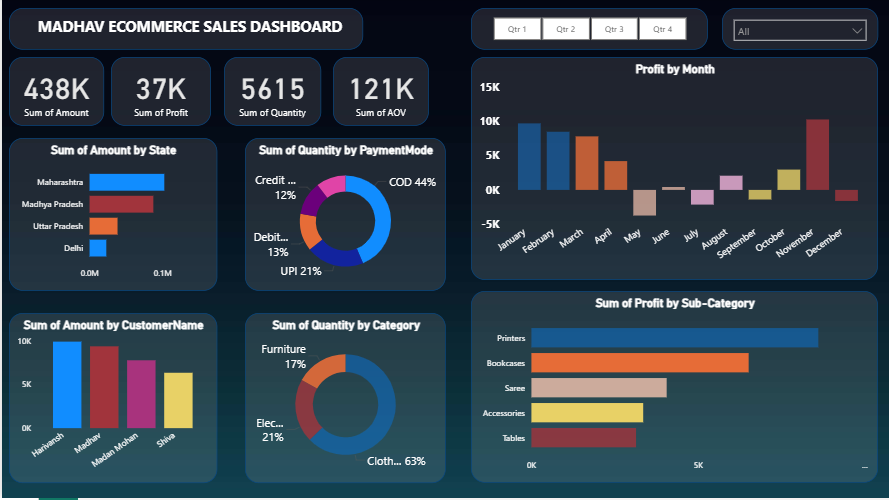

Layout of this report page (visuals, bound fields, positions):
{"tool":"powerbi","page":{"name":"Page 1","canvas":[1280,720],"ordinal":0},"visuals":[{"type":"textbox","box":[10.1,14.4,509.8,60.5],"z":0},{"type":"columnChart","title":"Profit by Month","fields":{"Y":["Details.Profit"],"Category":["Orders.Order Date.Variation.Date Hierarchy.Month"]},"box":[675.3,85.7,586.2,320.8],"z":1000},{"type":"clusteredBarChart","fields":{"Category":["Details.Sub-Category"],"Y":["Details.Profit"]},"box":[675.4,421.9,586.1,276.5],"z":2000},{"type":"donutChart","fields":{"Category":["Details.Category"],"Y":["Details.Quantity"]},"box":[349.9,453.6,289.4,244.8],"z":3000},{"type":"donutChart","fields":{"Category":["Details.PaymentMode"],"Y":["Details.Quantity"]},"box":[349.9,201.6,289.4,220.3],"z":4000},{"type":"card","fields":{"Values":["Details.Amount"]},"box":[10.1,85,136.8,99.4],"z":5000},{"type":"card","fields":{"Values":["Details.Quantity"]},"box":[319.7,85,139.7,99.4],"z":6000},{"type":"card","fields":{"Values":["Details.Profit"]},"box":[157,85,144,99.4],"z":7000},{"type":"card","fields":{"Values":["Details.AOV"]},"box":[476.6,85,138.2,99.4],"z":8000},{"type":"clusteredBarChart","fields":{"Y":["Details.Amount"],"Category":["Orders.State"]},"box":[10.1,201.6,299.5,220.3],"z":9000},{"type":"columnChart","fields":{"Category":["Orders.CustomerName"],"Y":["Details.Amount"]},"box":[10.1,453.6,299.5,244.8],"z":10000},{"type":"slicer","fields":{"Values":["Orders.Order Date.Variation.Date Hierarchy.Quarter"]},"box":[675.3,15.1,341,60.5],"z":11000},{"type":"slicer","fields":{"Values":["Orders.State"]},"box":[1036.4,15.1,225.1,60.5],"z":11001}]}

Visuals, with their boxes in screenshot pixels (x1, y1, x2, y2), scaled from the page's 1280x720 canvas onto the 889x500 screenshot:
textbox: <region>7, 10, 361, 52</region>
"Profit by Month" columnChart: <region>469, 60, 876, 282</region>
clusteredBarChart - Details.Sub-Category x Details.Profit: <region>469, 293, 876, 485</region>
donutChart - Details.Category x Details.Quantity: <region>243, 315, 444, 485</region>
donutChart - Details.PaymentMode x Details.Quantity: <region>243, 140, 444, 293</region>
card - Details.Amount: <region>7, 59, 102, 128</region>
card - Details.Quantity: <region>222, 59, 319, 128</region>
card - Details.Profit: <region>109, 59, 209, 128</region>
card - Details.AOV: <region>331, 59, 427, 128</region>
clusteredBarChart - Details.Amount x Orders.State: <region>7, 140, 215, 293</region>
columnChart - Orders.CustomerName x Details.Amount: <region>7, 315, 215, 485</region>
slicer - Orders.Order Date.Variation.Date Hierarchy.Quarter: <region>469, 10, 706, 52</region>
slicer - Orders.State: <region>720, 10, 876, 52</region>
